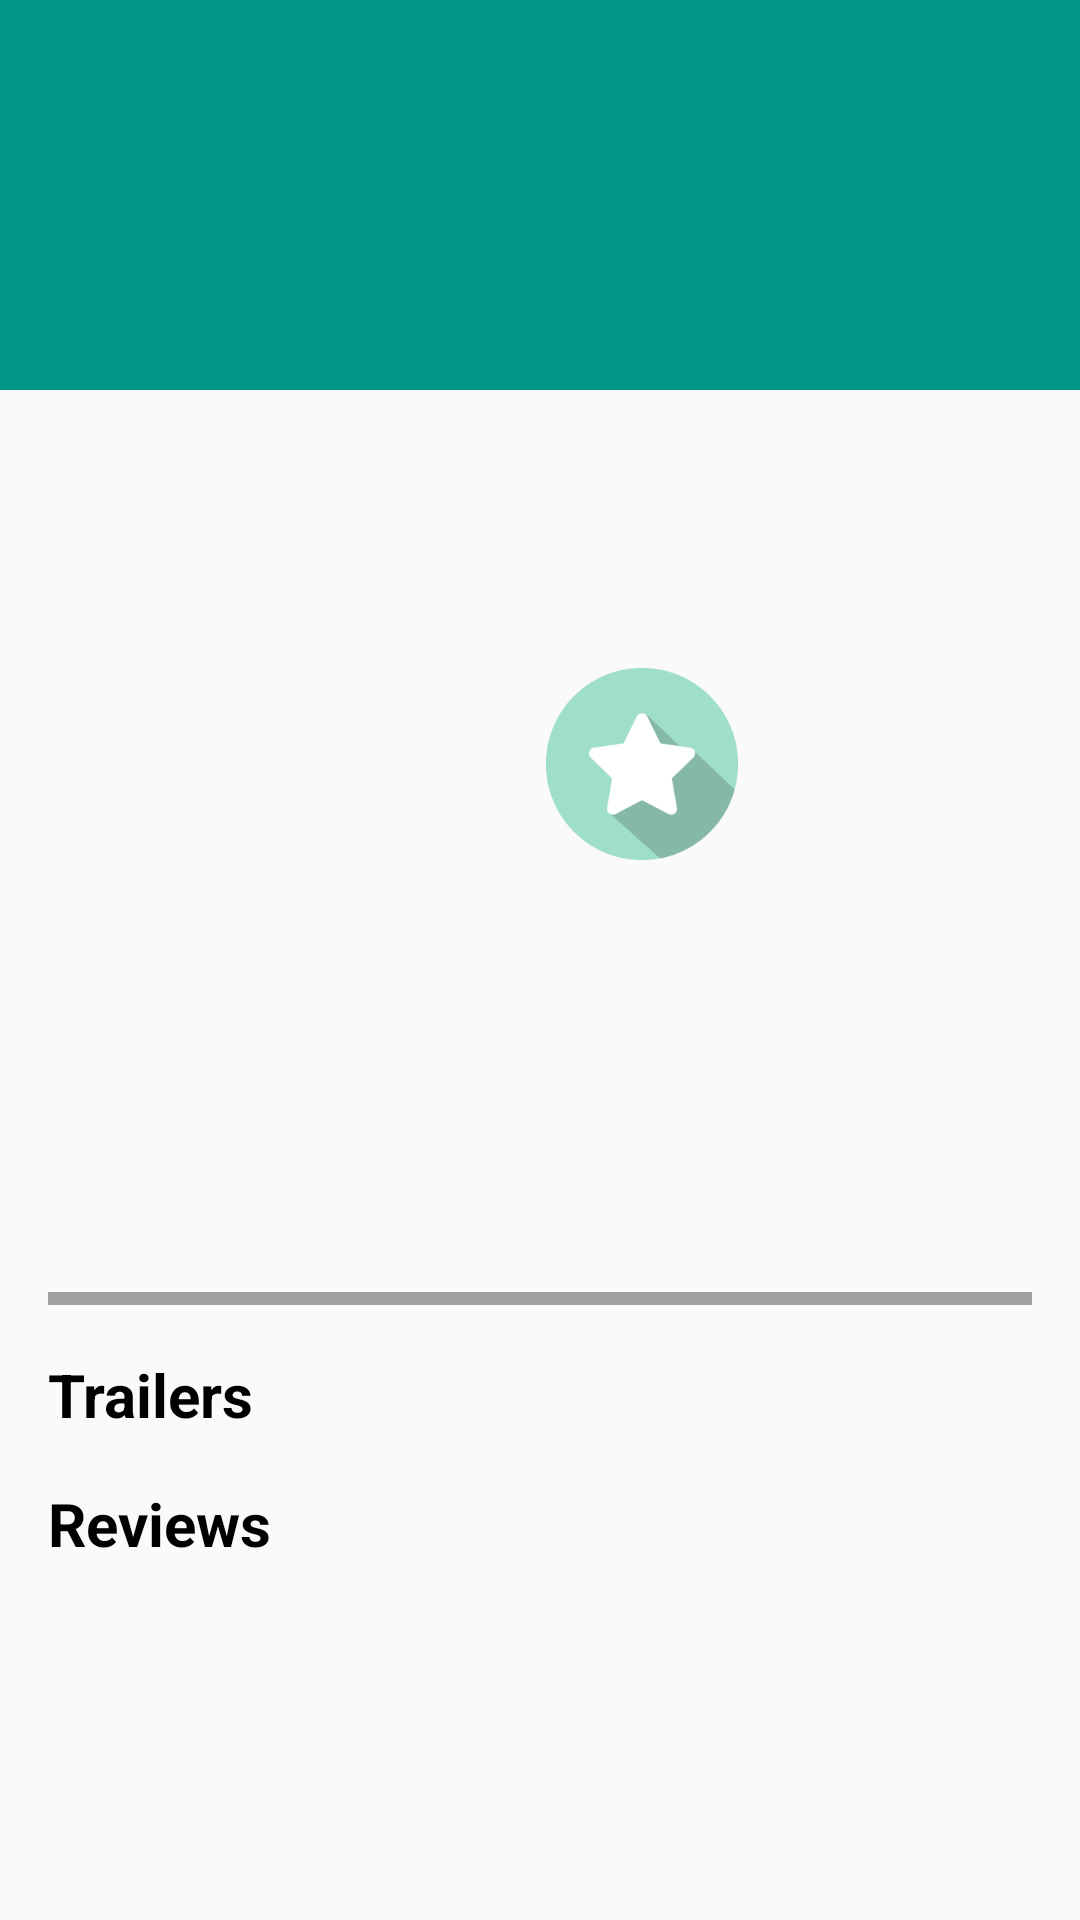

Icon bounding boxes for this 1080px x 1920px phone screenshot, format region(x1, y1, x2, y2):
fav: region(546, 668, 738, 860)
